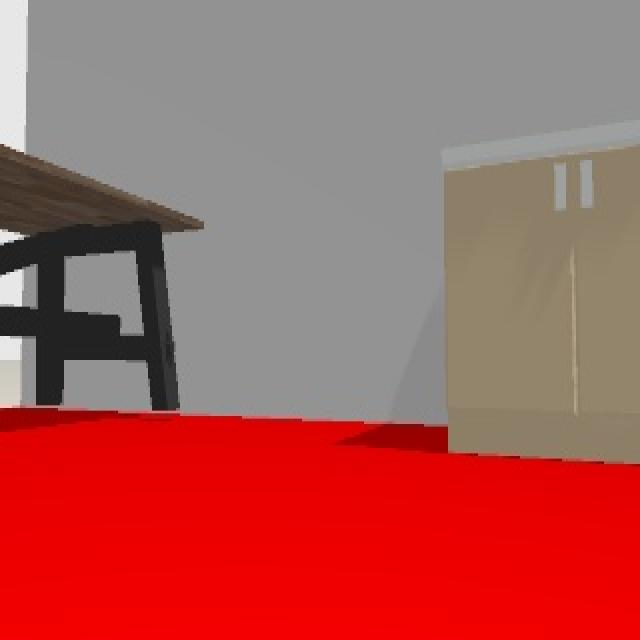dining: (1, 141, 203, 411)
